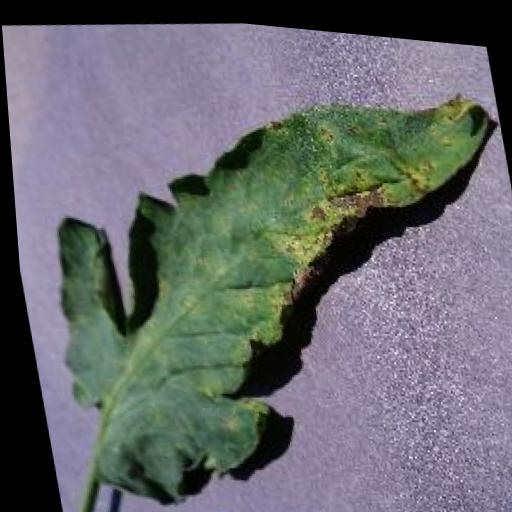Septoria: (14, 43, 512, 512)
